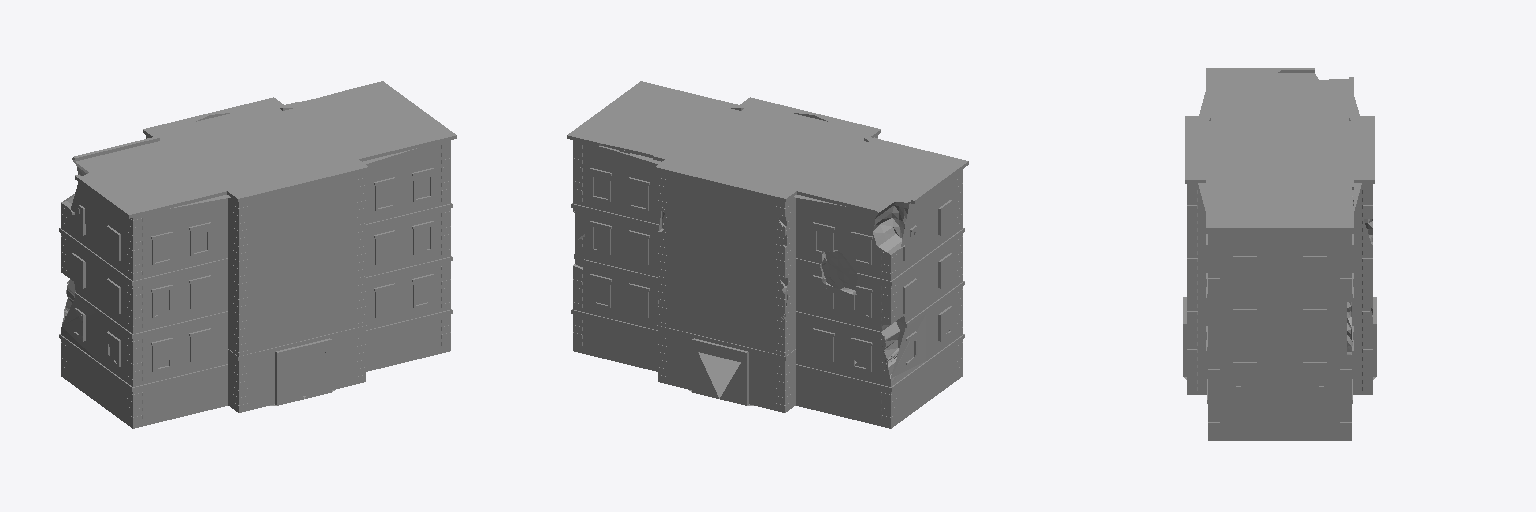
The model's file is budova_bez_kravin.obj.
3 views of the same model, side by side, from view 1: azimuth 30°, elevation 25°; view 2: azimuth 150°, elevation 25°; view 3: azimuth 270°, elevation 25° (orthographic).
Parts seen in each view (by area): view 1: Cube.107; view 2: Cube.107; view 3: Cube.107.
Boxes of the visible parts, x1,y1,x2,y2 form: Cube.107: [59, 81, 456, 428]; Cube.107: [567, 81, 968, 428]; Cube.107: [1183, 68, 1376, 440].
Size of the model in its own units: 21.24 by 13.35 by 10.88.